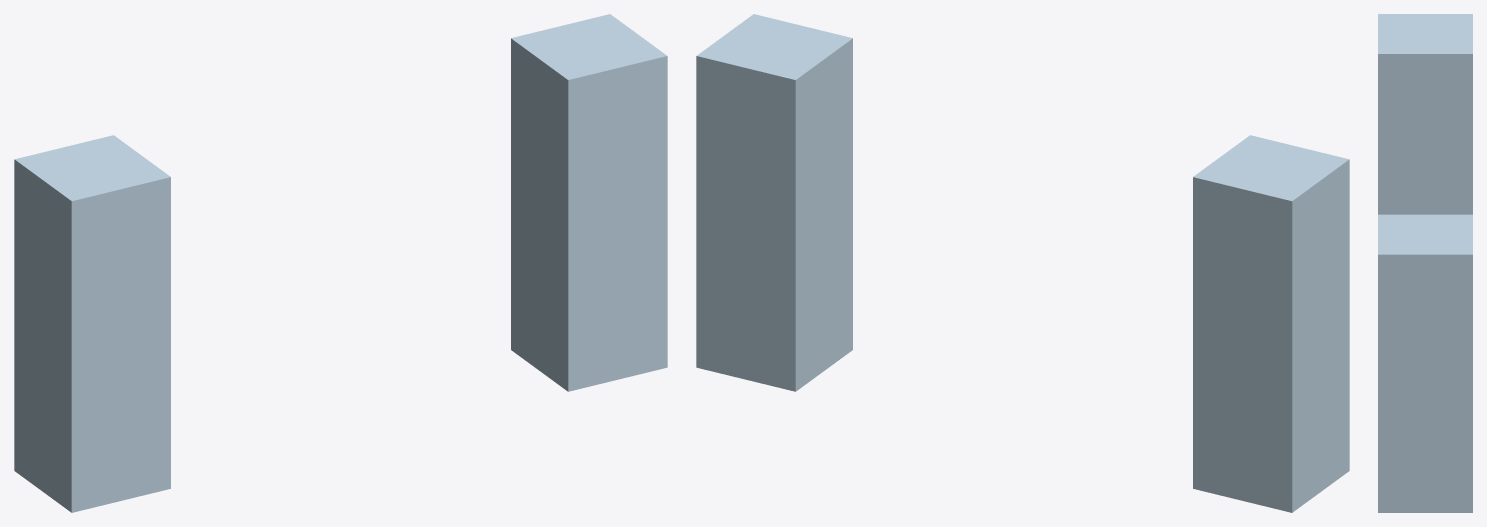
The model's file is ポテトくん(スカル).fbx.
3 views of the same model, side by side, from view 1: azimuth 30°, elevation 25°; view 2: azimuth 150°, elevation 25°; view 3: azimuth 270°, elevation 25° (orthographic). The views are drawn at different scales.
Parts seen in each view (by area): view 1: スカルEYE; view 2: スカルEYE; view 3: スカルEYE.
Part boxes in pixels (x1,y1,x2,y2): スカルEYE: (14,14,667,512); スカルEYE: (696,14,1349,512); スカルEYE: (1378,14,1472,512).
Bounding box in the file's own units: 6 × 3 × 1.
1 material, 1 textured.
